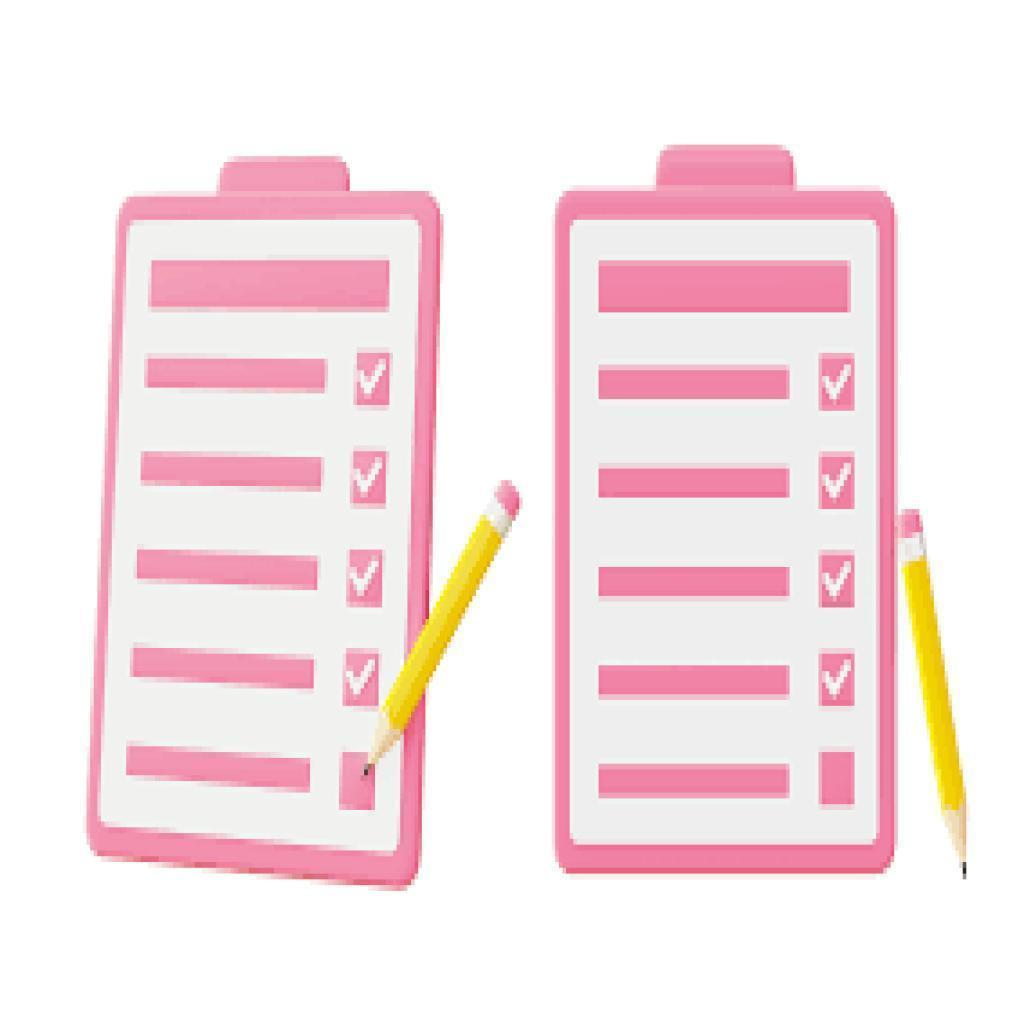checkbox: (816, 545, 857, 613), (344, 544, 385, 610), (816, 350, 858, 414), (341, 648, 385, 708), (814, 450, 857, 511), (818, 745, 857, 810), (818, 646, 857, 709), (350, 449, 387, 507), (355, 352, 393, 406)
